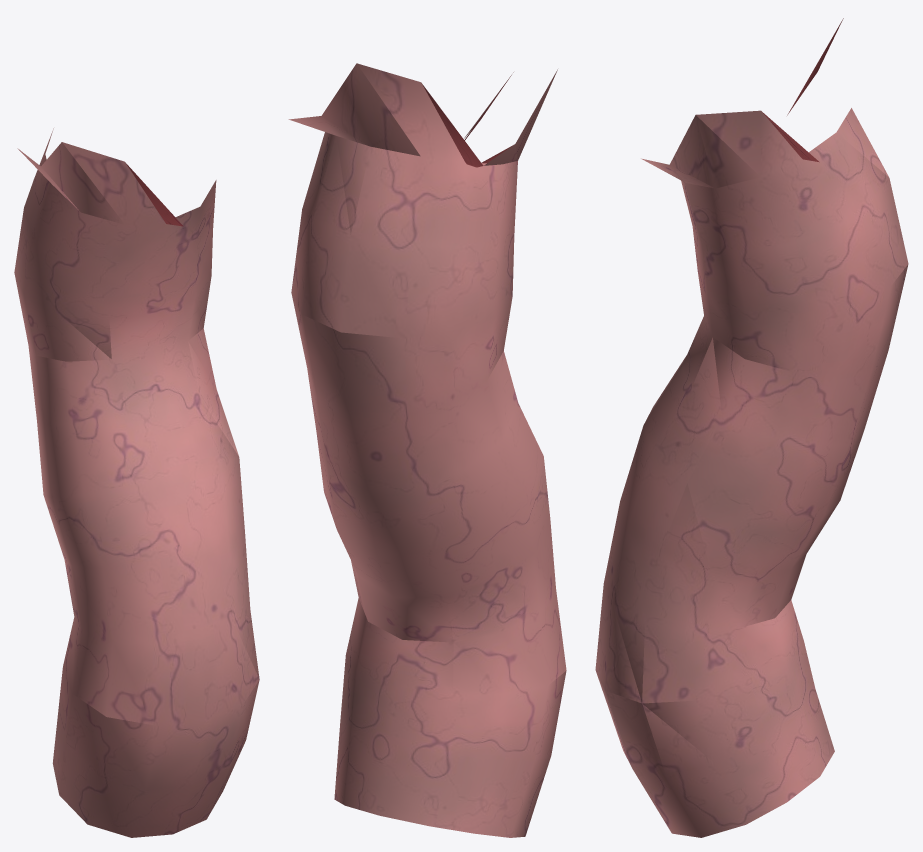
File: gut_torn.glb
The picture shows the model from 3 angles, left to right: view 1: azimuth 30°, elevation 25°; view 2: azimuth 150°, elevation 25°; view 3: azimuth 270°, elevation 25°; orthographic projection. The views are drawn at different scales.
Parts seen in each view (by area): view 1: OUT; view 2: OUT; view 3: OUT.
Boxes of the visible parts, x1,y1,x2,y2 form: OUT: (14,128,259,837); OUT: (288,63,566,837); OUT: (595,18,908,837).
Size of the model in its own units: 0.0668 by 0.2467 by 0.0876.
2 materials, 2 textured.
